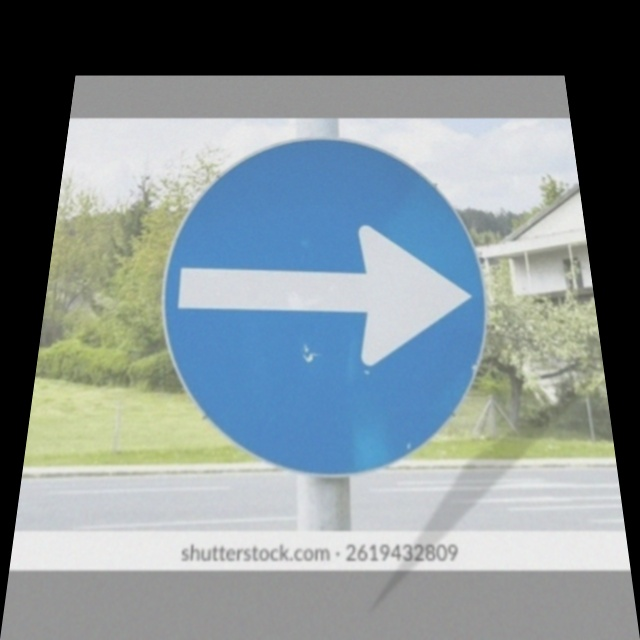Compulsory_Turn_Right: (147, 136, 500, 478)
